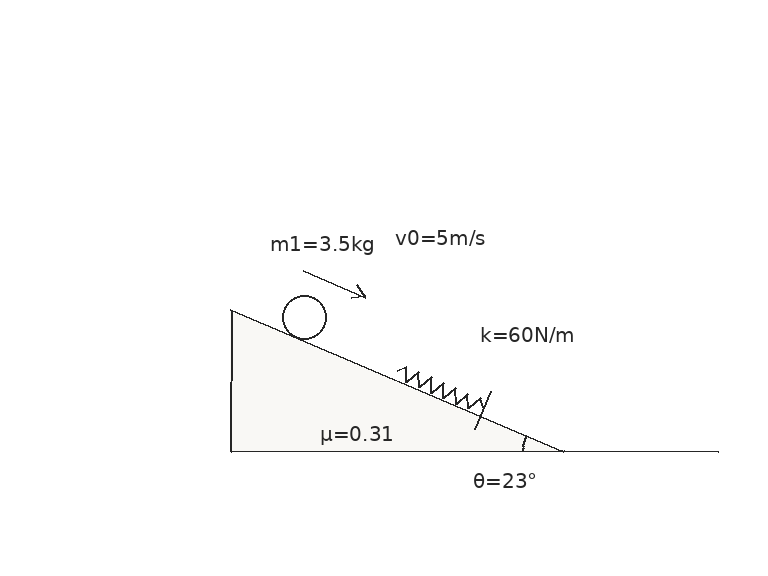ball: (280, 293, 328, 341)
ramp: (229, 308, 565, 453)
spring: (395, 365, 485, 411)
